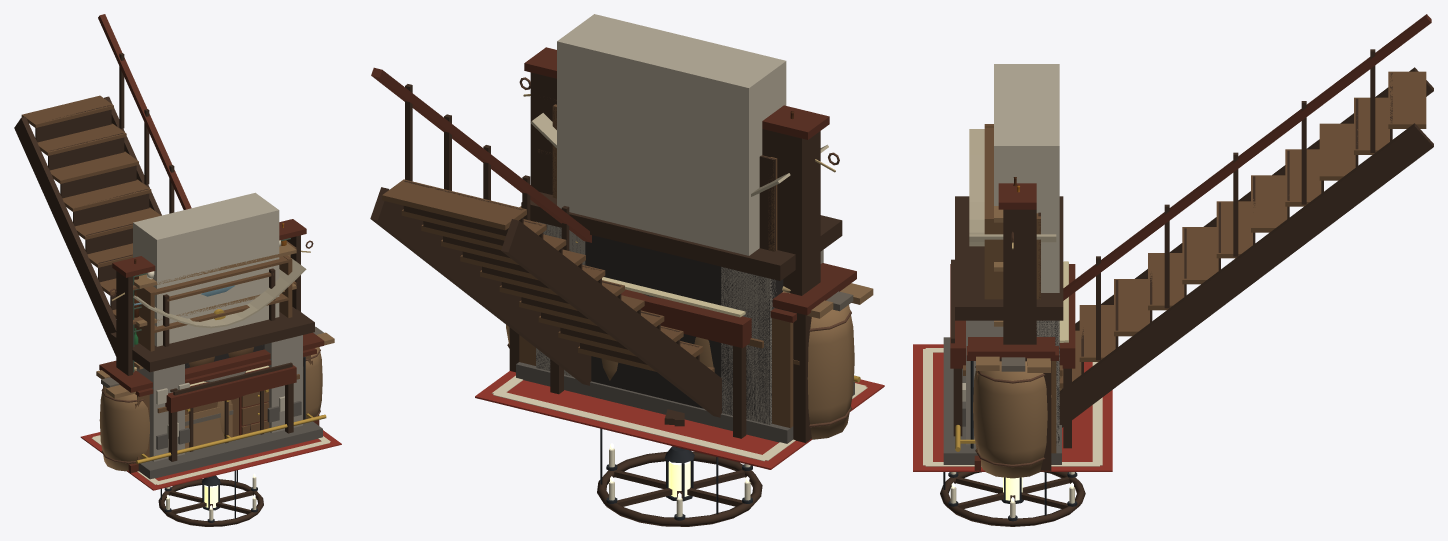
The model's file is kit.glb.
3 views of the same model, side by side, from view 1: azimuth 30°, elevation 25°; view 2: azimuth 150°, elevation 25°; view 3: azimuth 270°, elevation 25° (orthographic). The views are drawn at different scales.
Parts seen in each view (by area): view 1: hearth, stairs, plank_bar, chart_table, bar_back, bar_counter, shelf_rope, rug, chandelier, shop_counter, hammock, rum_shelf (+4 smaller); view 2: hearth, stairs, bar_back, rug, plank_bar, chandelier, chart_table, bar_counter, shop_counter, shelf_rope, lantern_hang, hammock; view 3: stairs, hearth, plank_bar, rug, bar_back, chart_table, chandelier, shelf_rope, bar_counter, hammock, shop_counter.
Part boxes in pixels (x1,y1,x2,y2): hearth: (110, 192, 322, 479); stairs: (14, 14, 191, 356); plank_bar: (96, 326, 334, 471); chart_table: (165, 362, 296, 461); bar_back: (112, 219, 306, 375); bar_counter: (99, 332, 326, 473); shelf_rope: (134, 255, 292, 351); rug: (80, 430, 341, 490); chandelier: (158, 470, 263, 526); shop_counter: (134, 348, 316, 459); hammock: (109, 240, 313, 328); rum_shelf: (134, 243, 296, 369); hearth: (516, 14, 854, 443); stairs: (370, 67, 721, 417); bar_back: (524, 47, 829, 295); rug: (475, 371, 884, 469); plank_bar: (506, 206, 873, 439); chandelier: (597, 428, 762, 526); chart_table: (550, 241, 751, 438); bar_counter: (509, 263, 860, 443); shop_counter: (519, 286, 796, 428); shelf_rope: (552, 104, 777, 251); lantern_hang: (664, 446, 694, 501); hammock: (519, 77, 839, 196); stairs: (1059, 14, 1433, 427); hearth: (943, 64, 1063, 464); plank_bar: (973, 356, 1050, 478); rug: (913, 344, 1112, 471); bar_back: (998, 183, 1036, 344); chart_table: (950, 259, 1075, 448); chandelier: (940, 472, 1085, 526); shelf_rope: (984, 124, 1040, 299); bar_counter: (955, 337, 1055, 471); hammock: (969, 129, 1056, 249); shop_counter: (966, 346, 1058, 464).
Bounding box in the file's own units: 2.8 × 4.53 × 4.18.
